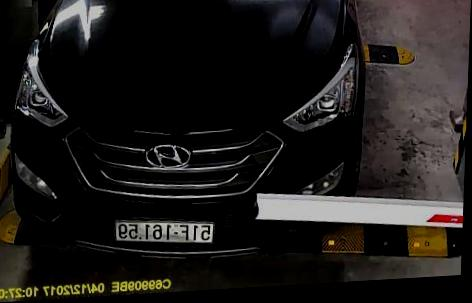License_Plate: (111, 213, 223, 254)
